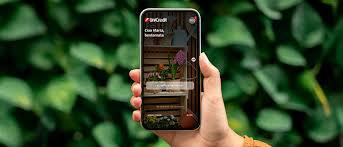Hand: (127, 58, 235, 147)
Smartphone: (141, 10, 201, 132)
